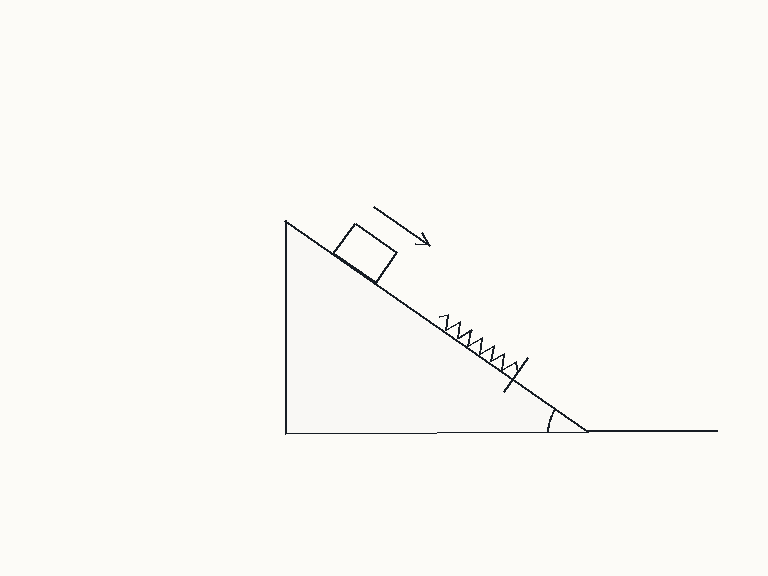block: (331, 221, 398, 285)
ramp: (284, 218, 590, 434)
spring: (437, 313, 520, 374)
